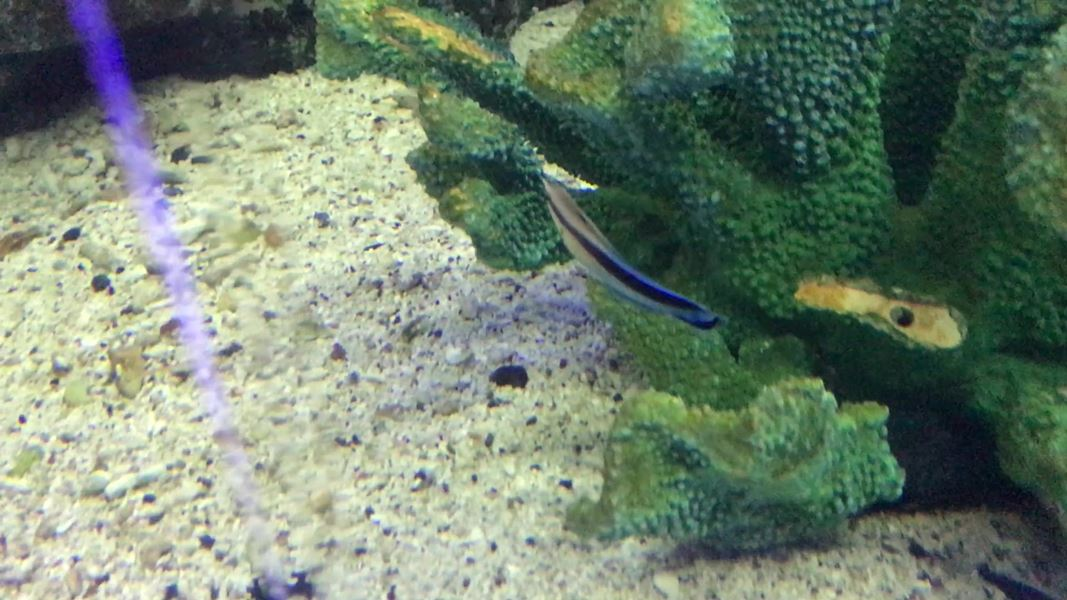Bluesteak cleaner wrasse: (526, 168, 727, 343)
